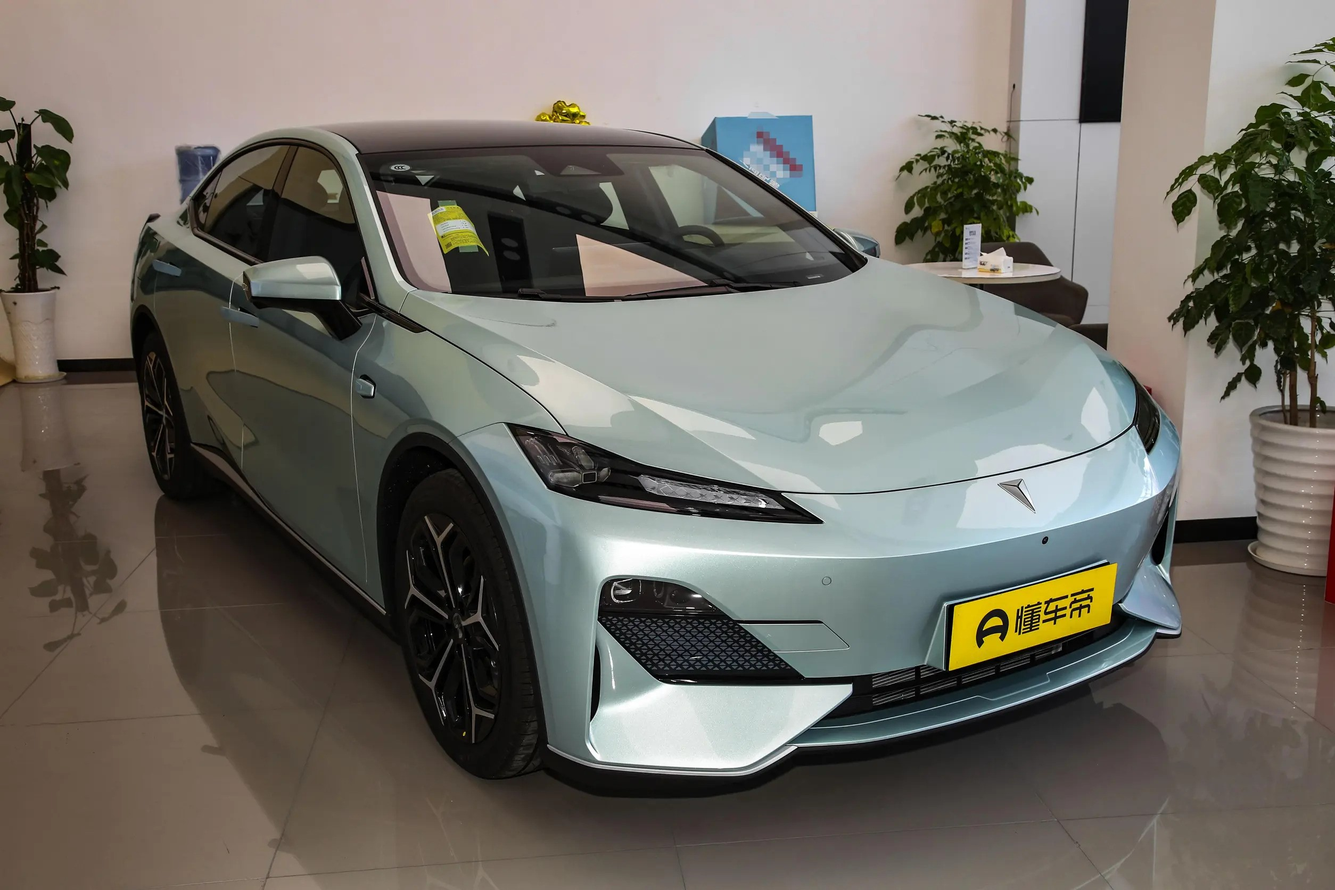Deepal: (998, 478, 1036, 512)
